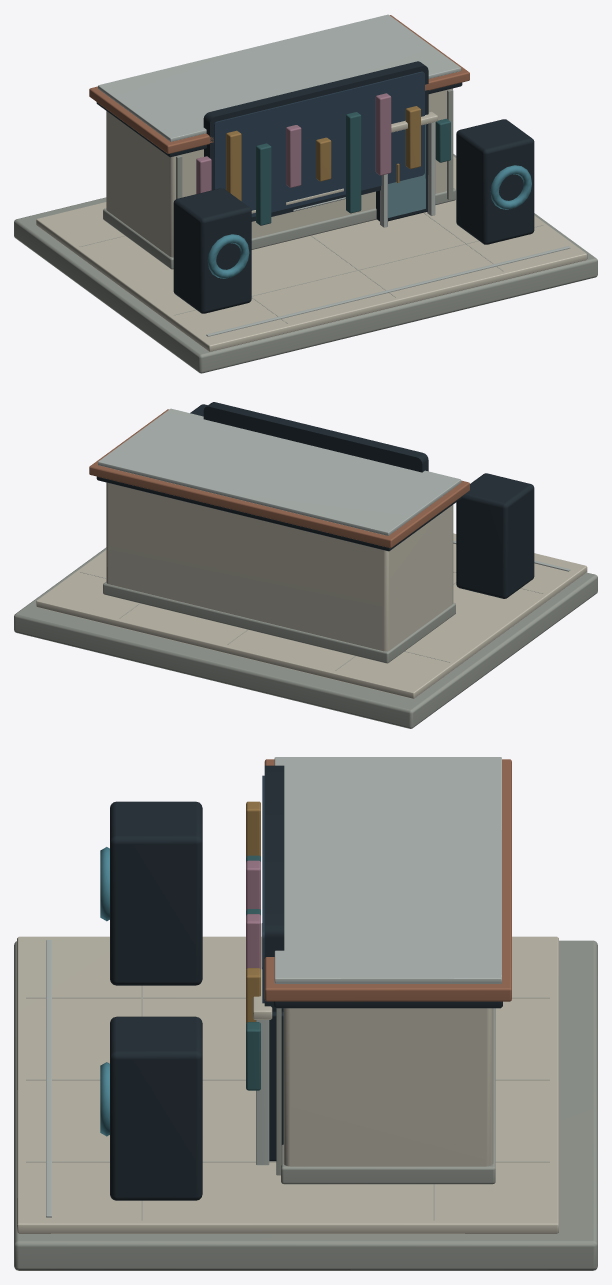
The model's file is idea-cd89f6af.glb.
3 views of the same model, one above another, from view 1: azimuth 30°, elevation 25°; view 2: azimuth 150°, elevation 25°; view 3: azimuth 270°, elevation 25° (orthographic). The views are drawn at different scales.
Visible parts, largest first — view 1: WraithWave / MixerWave; view 2: WraithWave / MixerWave; view 3: WraithWave / MixerWave.
Boxes of the visible parts, x1,y1,x2,y2 form: WraithWave / MixerWave: (14, 14, 597, 373); WraithWave / MixerWave: (14, 402, 597, 728); WraithWave / MixerWave: (14, 757, 597, 1270).
Size of the model in its own units: 4.8 by 2.03 by 3.9.
